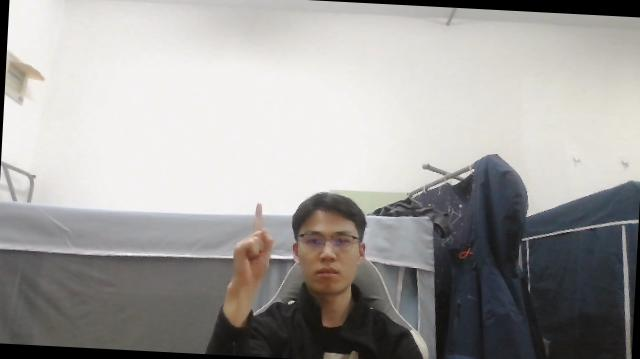one: (229, 199, 276, 280)
